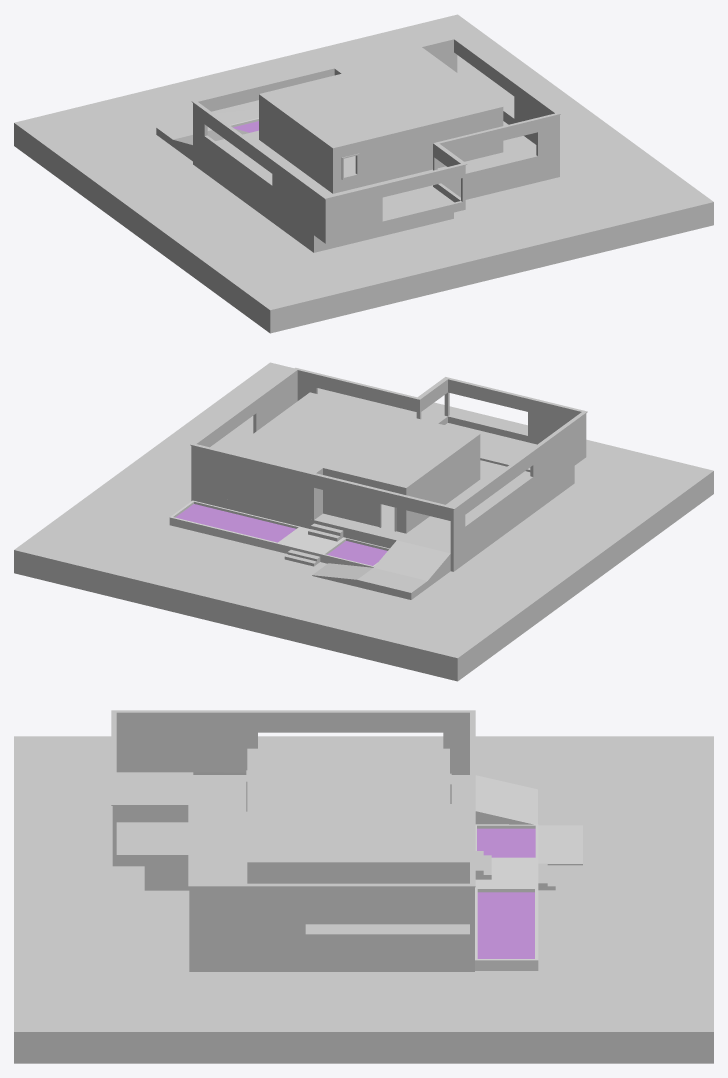
File: artgalleryjj2.fbx
3 renders of one model, top to bottom at view 1: azimuth 30°, elevation 25°; view 2: azimuth 150°, elevation 25°; view 3: azimuth 270°, elevation 25°, orthographic. The views are drawn at different scales.
Parts seen in each view (by area): view 1: 16_base, 16_outcover, 16_outwall, 16_outfloor; view 2: 16_base, 16_outwall, 16_outcover, 16_outfloor, 16_plants; view 3: 16_base, 16_outwall, 16_outcover, 16_outfloor, 16_plants.
Part boxes in pixels (x1,y1,x2,y2): 16_base: (14,14,713,333); 16_outcover: (259,47,503,193); 16_outwall: (191,37,560,243); 16_outfloor: (156,109,559,252); 16_base: (14,362,713,681); 16_outwall: (190,367,587,554); 16_outcover: (229,392,480,533); 16_outfloor: (191,423,574,599); 16_plants: (169,500,389,567); 16_base: (14,736,713,1063); 16_outwall: (111,710,475,947); 16_outcover: (247,748,469,924); 16_outfloor: (116,772,582,971); 16_plants: (475,824,538,970).
Size of the model in its own units: 4000 by 745 by 4000.
